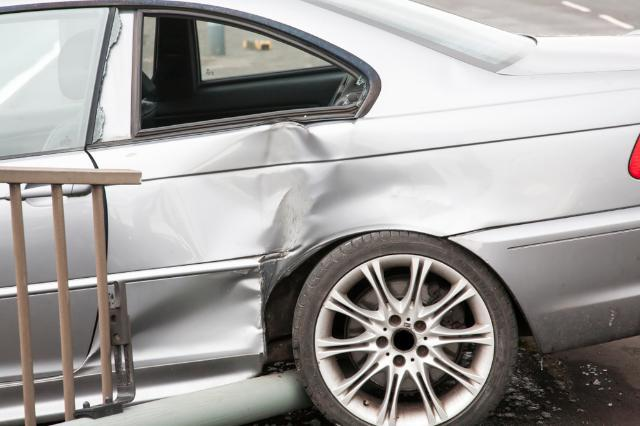dent: (135, 123, 506, 358)
